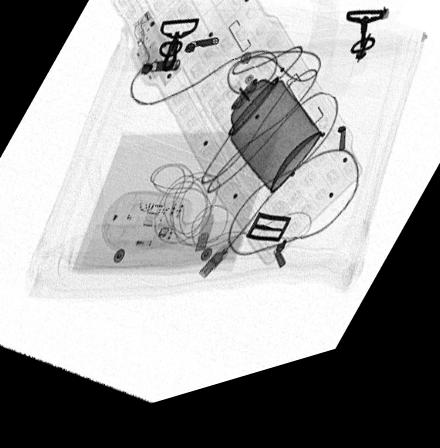Sprayer: (209, 71, 321, 209)
